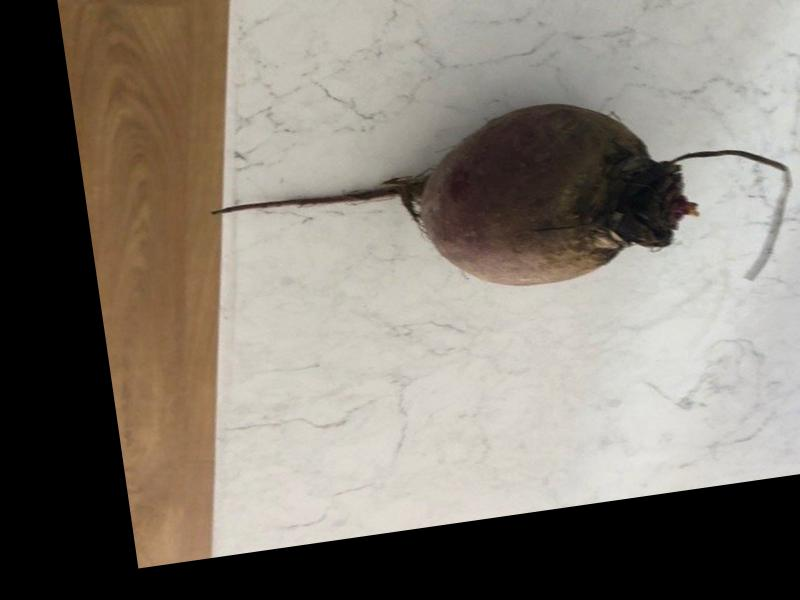Beet: (201, 72, 800, 353)
